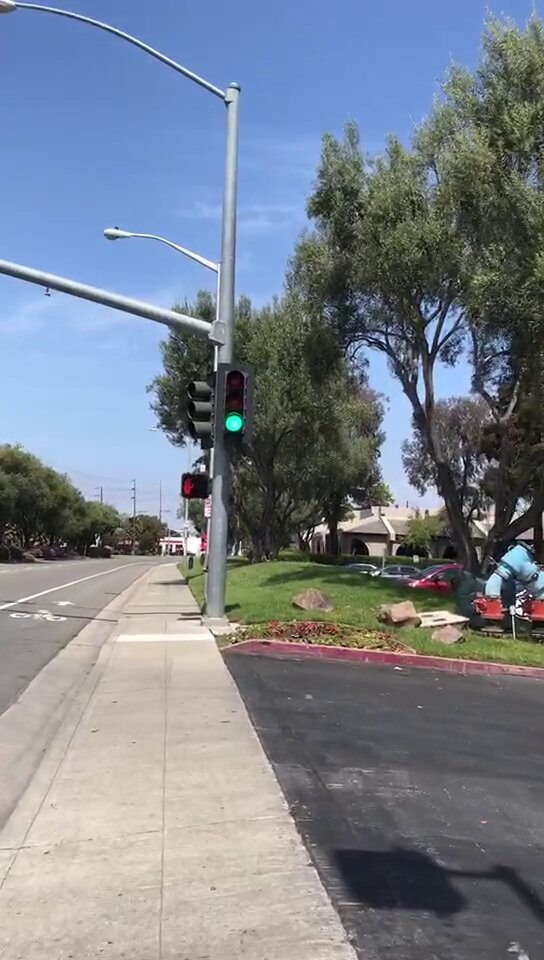green_light: (216, 365, 253, 435)
